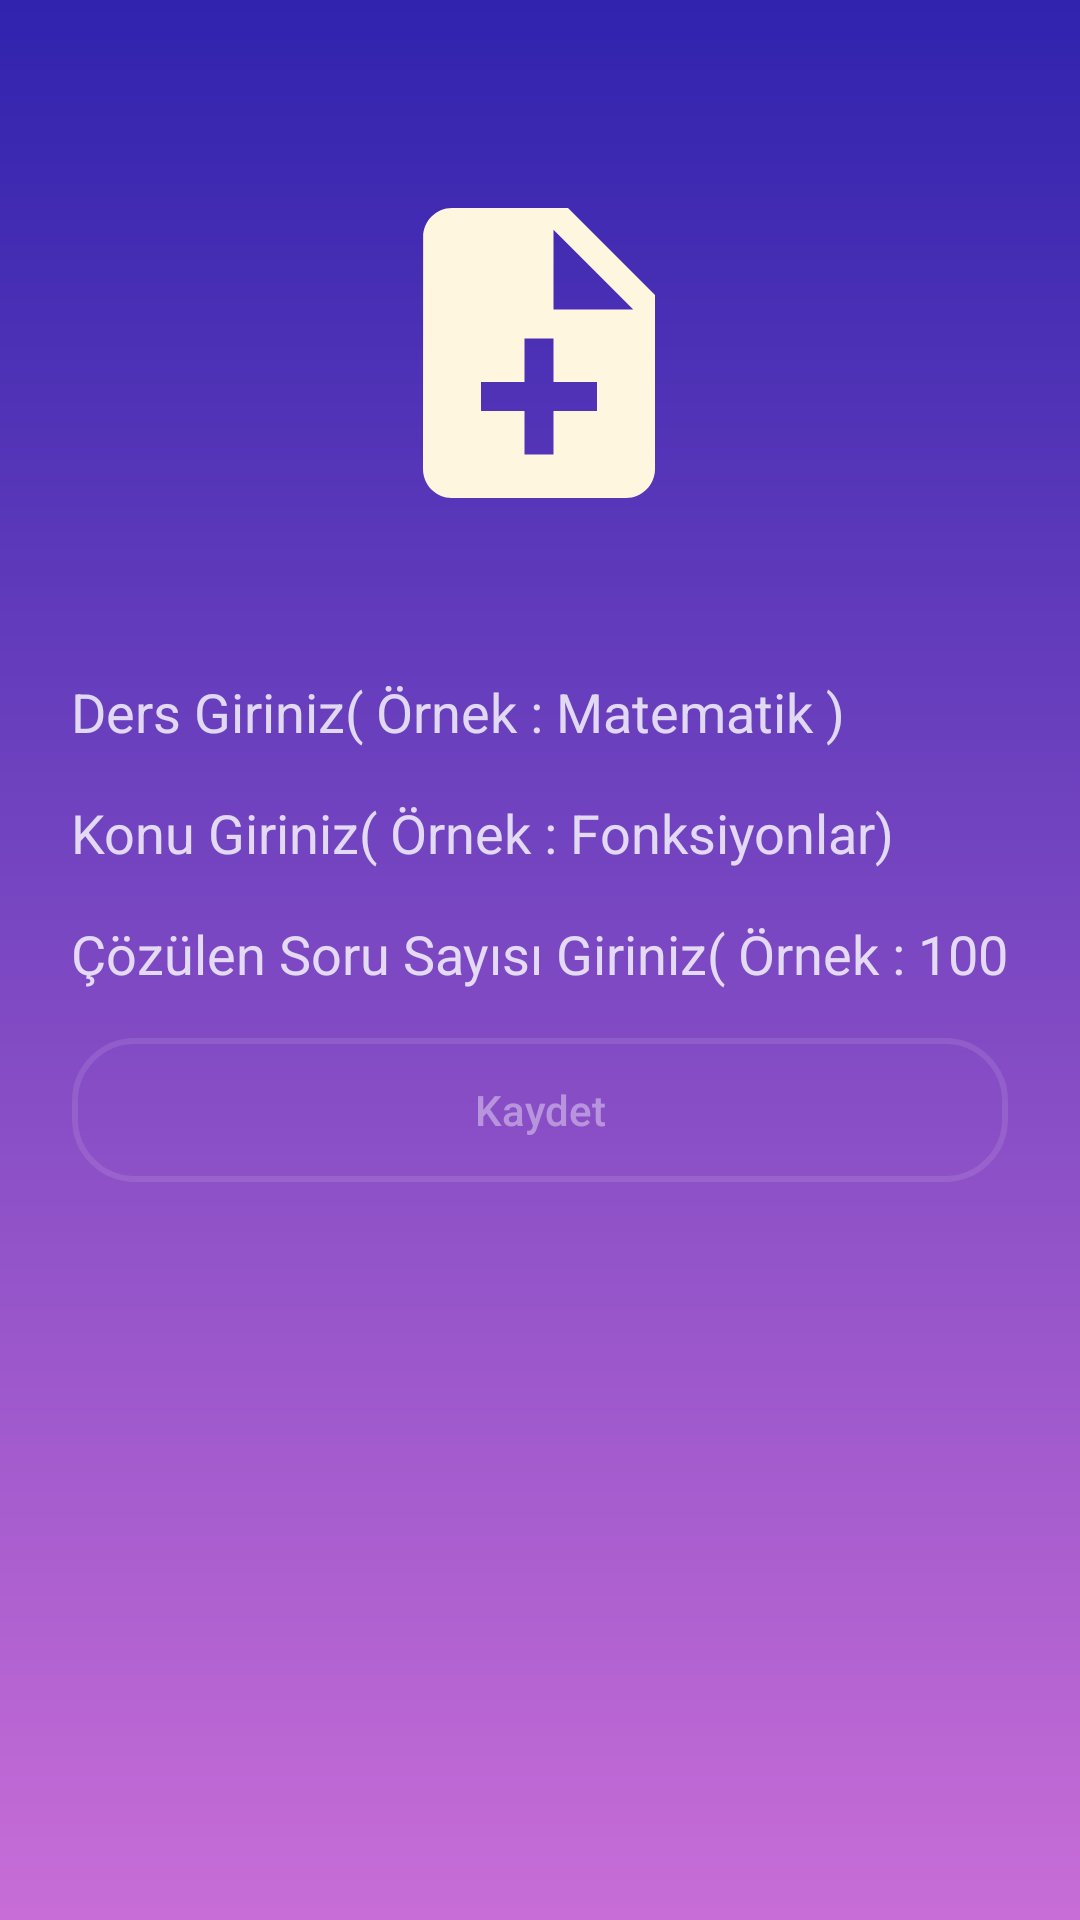

Icon bounding boxes for this 1080 × 1920 phone screenshot, format [left=x1, top=y1, right=x2, bottom=y2]:
add lesson: [left=365, top=208, right=713, bottom=555]
